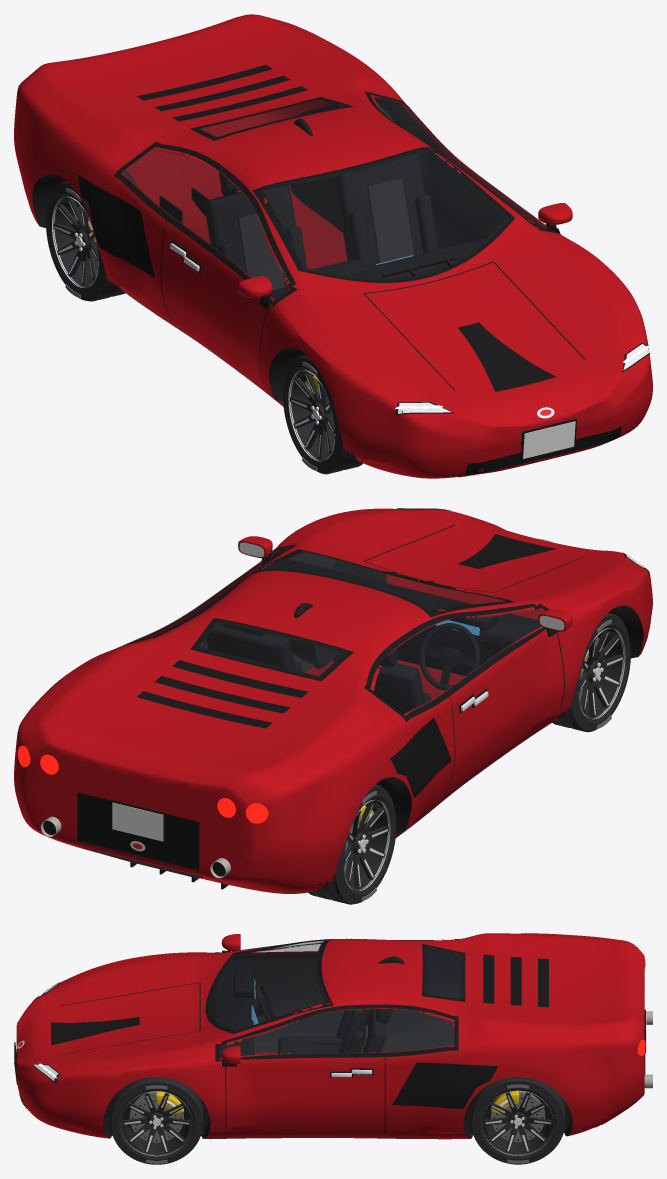
3 renders of one model, top to bottom at view 1: azimuth 30°, elevation 25°; view 2: azimuth 150°, elevation 25°; view 3: azimuth 270°, elevation 25°, orthographic. The views are drawn at different scales.
Parts seen in each view (by area): view 1: Body, Wheel_FR, Wheel_RR; view 2: Body, Wheel_RR, Wheel_FR; view 3: Body, Wheel_RL, Wheel_FL.
Boxes of the visible parts, x1=… form: Body: x1=14, y1=14, x2=652, y2=478; Wheel_FR: x1=283, y1=355, x2=362, y2=474; Wheel_RR: x1=46, y1=181, x2=125, y2=301; Body: x1=14, y1=507, x2=652, y2=893; Wheel_RR: x1=308, y1=784, x2=396, y2=904; Wheel_FR: x1=552, y1=613, x2=630, y2=732; Body: x1=14, y1=933, x2=652, y2=1139; Wheel_RL: x1=471, y1=1077, x2=565, y2=1164; Wheel_FL: x1=110, y1=1077, x2=203, y2=1164.
Size of the model in its own units: 2.14 by 1.26 by 4.69.
